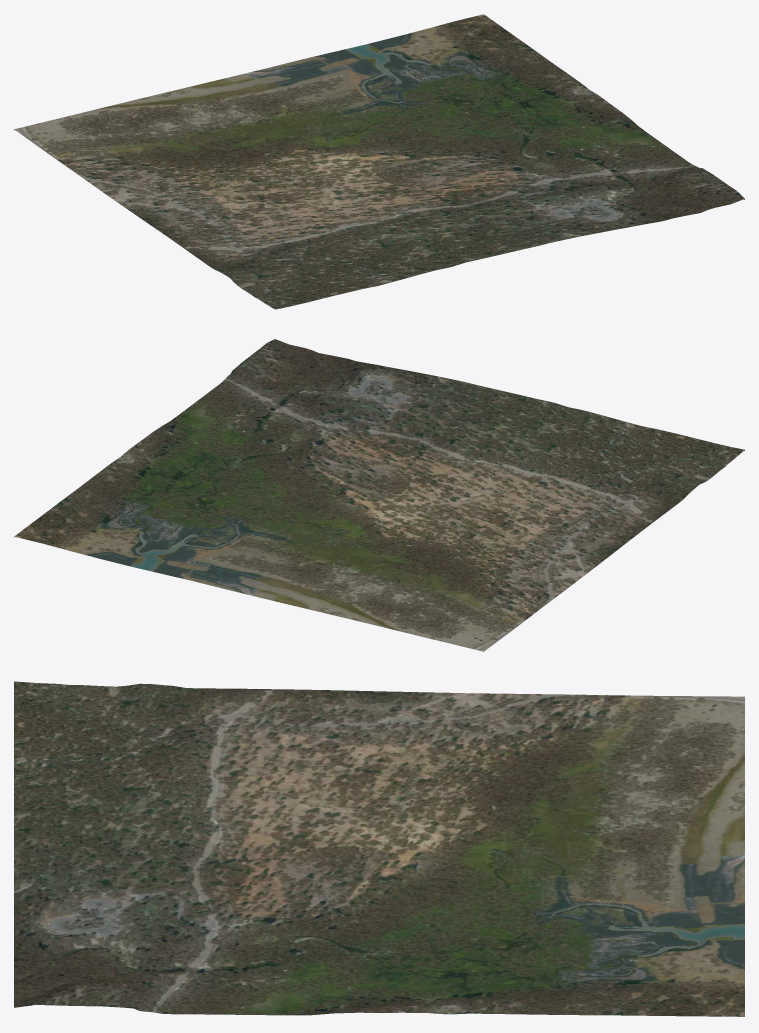
The picture shows the model from 3 angles, top to bottom: view 1: azimuth 30°, elevation 25°; view 2: azimuth 150°, elevation 25°; view 3: azimuth 270°, elevation 25°; orthographic projection. The views are drawn at different scales.
Size of the model in its own units: 1000 by 27.59 by 963.
1 material, 1 textured.
